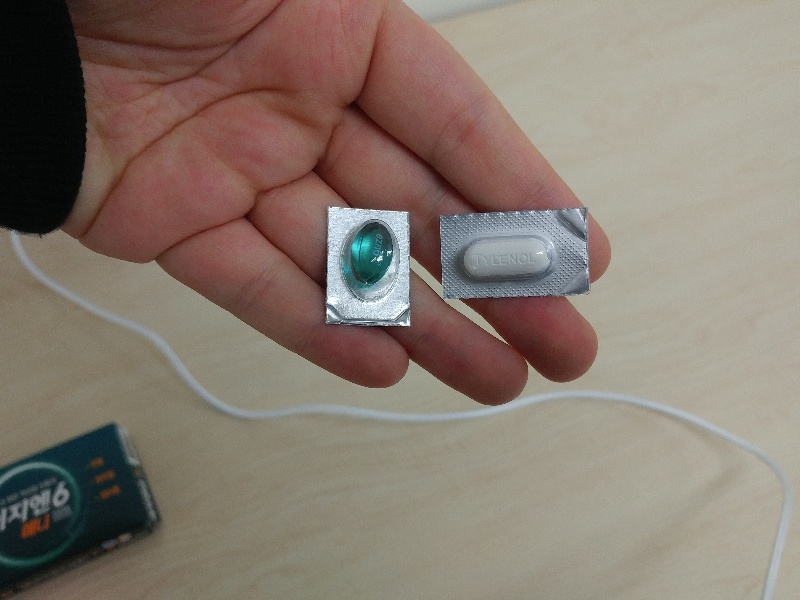pill_ezn: (325, 208, 411, 325)
pill_tylenol: (440, 209, 592, 299)
